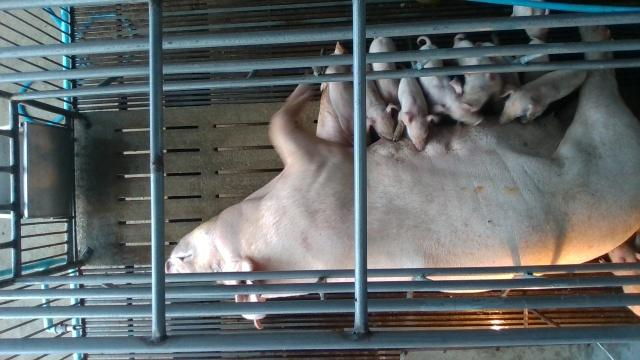piglet: (416, 36, 484, 126), (499, 70, 586, 125), (449, 33, 503, 112), (320, 65, 372, 146), (599, 241, 640, 317), (397, 78, 439, 151), (367, 65, 399, 139), (369, 37, 400, 109)
sow-sleep-lactate: (166, 28, 640, 330)
